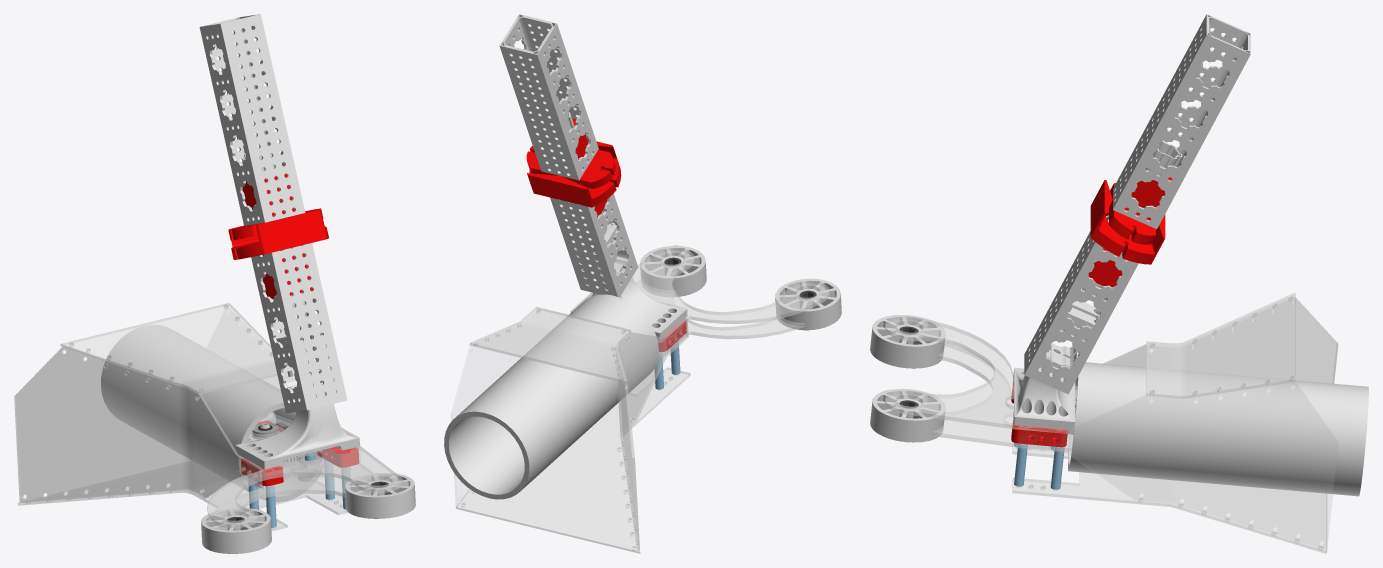
3 views of the same model, side by side, from view 1: azimuth 30°, elevation 25°; view 2: azimuth 150°, elevation 25°; view 3: azimuth 270°, elevation 25° (orthographic). The views are drawn at different scales.
Visible parts, largest first — view 1: Funnel Bend, 2x2 MAXTube - MAX Pattern & Grid Pattern (REV-21-3287) (×2), Coral, top funnel, Coral Grabber Plate (×2), am-3946 3IN 500Hex Molded Compliant Wheel VER 2 (×2), bottom funnel, da vacuum cleaner v3, Bushing holder, Funnel Mount (×2), No Rotate Bracket; view 2: Coral, 2x2 MAXTube - MAX Pattern & Grid Pattern (REV-21-3287) (×2), bottom funnel, Coral Grabber Plate (×2), top funnel, am-3946 3IN 500Hex Molded Compliant Wheel VER 2 (×2), Funnel Bend, Straight Funnel, jim, Bushing holder, da vacuum cleaner v3, No Rotate Bracket; view 3: Coral, Straight Funnel, jim, 2x2 MAXTube - MAX Pattern & Grid Pattern (REV-21-3287) (×2), Coral Grabber Plate (×2), bottom funnel, top funnel, Funnel Bend, am-3946 3IN 500Hex Molded Compliant Wheel VER 2 (×2), da vacuum cleaner v3, Bushing holder, No Rotate Bracket, Funnel Mount (+1 smaller).
Boxes of the visible parts, box(x1,y1,x2,y2) form: Funnel Bend: box(14, 346, 262, 502); 2x2 MAXTube - MAX Pattern & Grid Pattern (REV-21-3287) (×2): box(199, 14, 347, 413); Coral: box(101, 325, 323, 502); top funnel: box(60, 303, 277, 394); Coral Grabber Plate (×2): box(207, 411, 402, 527); am-3946 3IN 500Hex Molded Compliant Wheel VER 2 (×2): box(201, 473, 415, 553); bottom funnel: box(17, 461, 348, 531); da vacuum cleaner v3: box(235, 382, 359, 469); Bushing holder: box(228, 209, 328, 298); Funnel Mount (×2): box(241, 446, 358, 486); No Rotate Bracket: box(228, 173, 323, 240); Coral: box(444, 294, 658, 499); 2x2 MAXTube - MAX Pattern & Grid Pattern (REV-21-3287) (×2): box(499, 14, 638, 297); bottom funnel: box(455, 367, 690, 553); Coral Grabber Plate (×2): box(632, 247, 829, 357); top funnel: box(470, 307, 630, 383); am-3946 3IN 500Hex Molded Compliant Wheel VER 2 (×2): box(640, 245, 841, 330); Funnel Bend: box(616, 318, 688, 550); Straight Funnel, jim: box(451, 346, 519, 506); Bushing holder: box(527, 141, 621, 217); da vacuum cleaner v3: box(571, 263, 687, 339); No Rotate Bracket: box(526, 118, 615, 188); Coral: box(1068, 362, 1368, 496); Straight Funnel, jim: box(1017, 382, 1337, 550); 2x2 MAXTube - MAX Pattern & Grid Pattern (REV-21-3287) (×2): box(1024, 14, 1250, 394); Coral Grabber Plate (×2): box(884, 316, 1077, 451); bottom funnel: box(1012, 442, 1327, 553); top funnel: box(1146, 293, 1295, 398); Funnel Bend: box(1103, 296, 1338, 383); am-3946 3IN 500Hex Molded Compliant Wheel VER 2 (×2): box(870, 315, 945, 442); da vacuum cleaner v3: box(1013, 344, 1075, 430); Bushing holder: box(1088, 180, 1165, 287); No Rotate Bracket: box(1109, 168, 1172, 244); Funnel Mount: box(1011, 421, 1067, 447).
Bounding box in the file's own units: 0.2771 × 0.5865 × 0.516.
